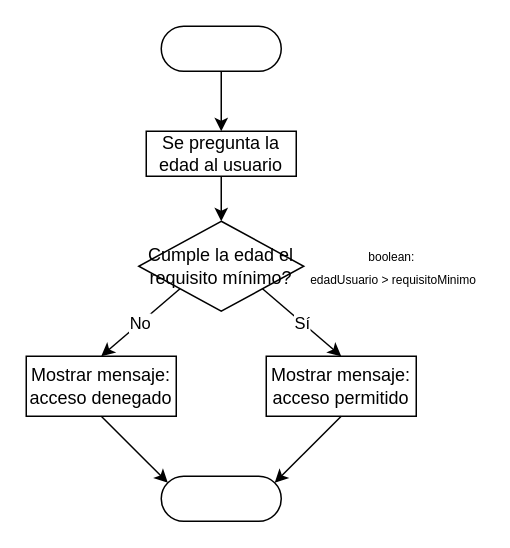
The diagram is 510 pixels wide and 548 high, and some of its shapes have lost their labels. The shapes that lost their labels are listed below. From the top down, each one's centre as x and y in pixels, then its label:
the point at 220,48: Inicio
the point at 220,498: Fin
